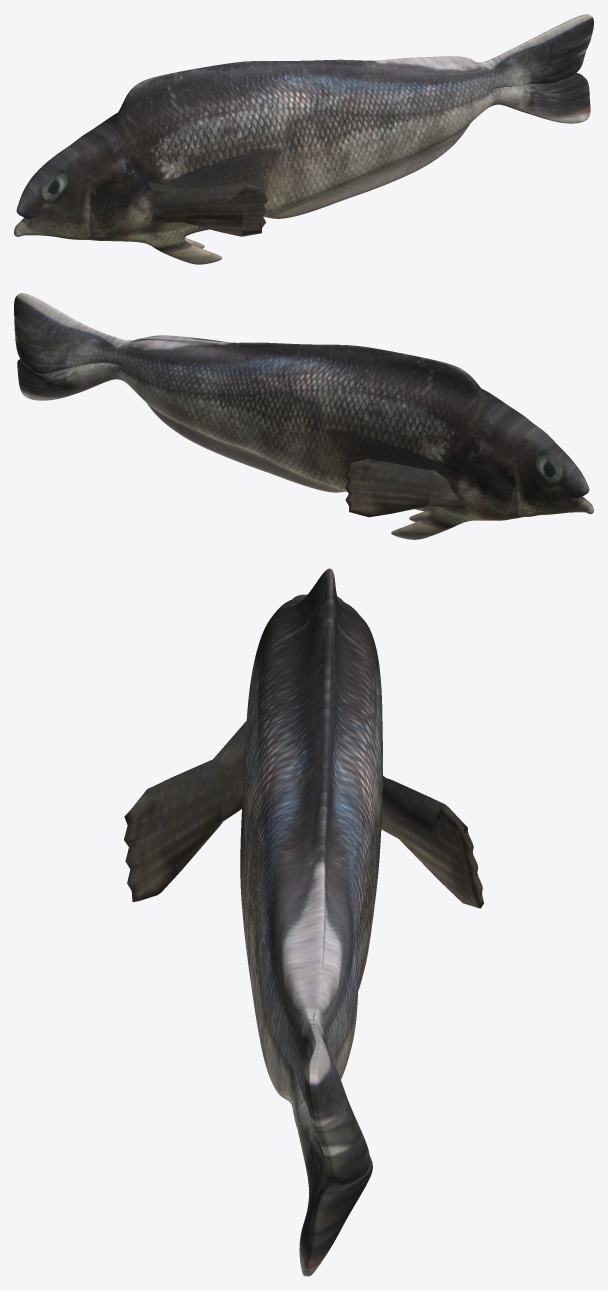
The model's file is Blanquillo.glb.
The picture shows the model from 3 angles, top to bottom: view 1: azimuth 30°, elevation 25°; view 2: azimuth 150°, elevation 25°; view 3: azimuth 270°, elevation 25°; orthographic projection. The views are drawn at different scales.
Visible parts, largest first — view 1: Plane; view 2: Plane; view 3: Plane.
Boxes of the visible parts, x1=… form: Plane: x1=14, y1=14, x2=593, y2=264; Plane: x1=14, y1=293, x2=593, y2=539; Plane: x1=124, y1=568, x2=483, y2=1276.
Size of the model in its own units: 4.23 by 1.29 by 1.14.
Materials: 2 (2 with a texture image).
